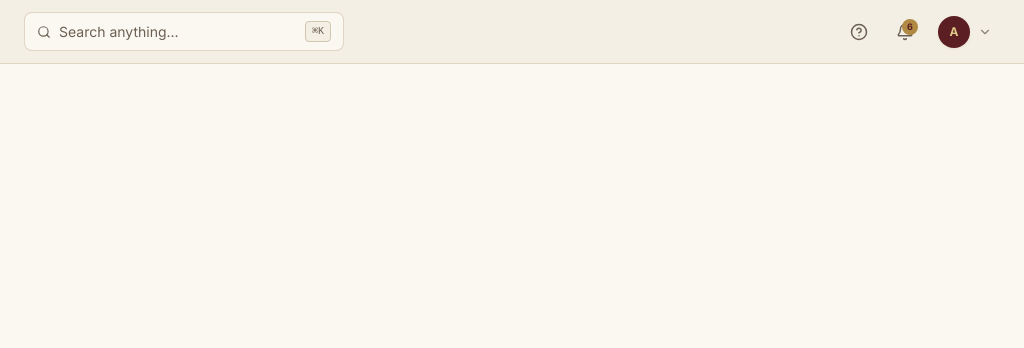
Scenario: APPLE-SHELL-L2-02 notification times and stale poll › English session shows compact relative times on a fixed clock
Click the button named "Notifications, 6 unread".
click(905, 32)  # box top-left (888, 14), bottom-right (922, 48)
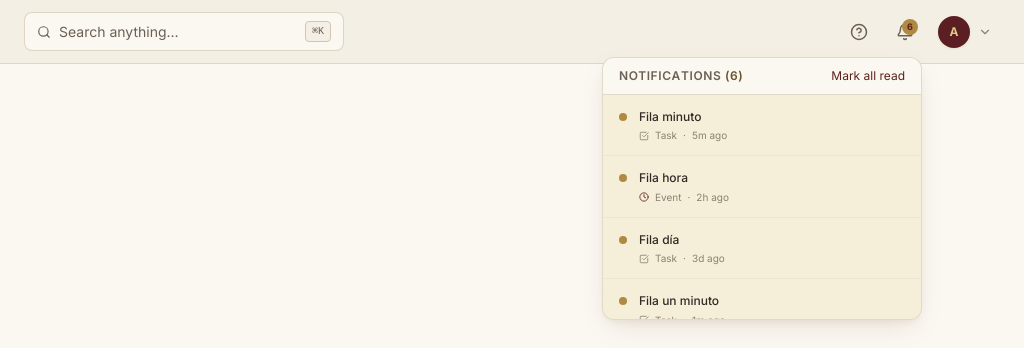
Expected: the text "5m ago" is shown, top-left (692, 128), bottom-right (727, 143)
Expected: the text "2h ago" is shown, top-left (696, 190), bottom-right (729, 204)
Expected: the text "3d ago" is shown, top-left (692, 251), bottom-right (725, 266)
